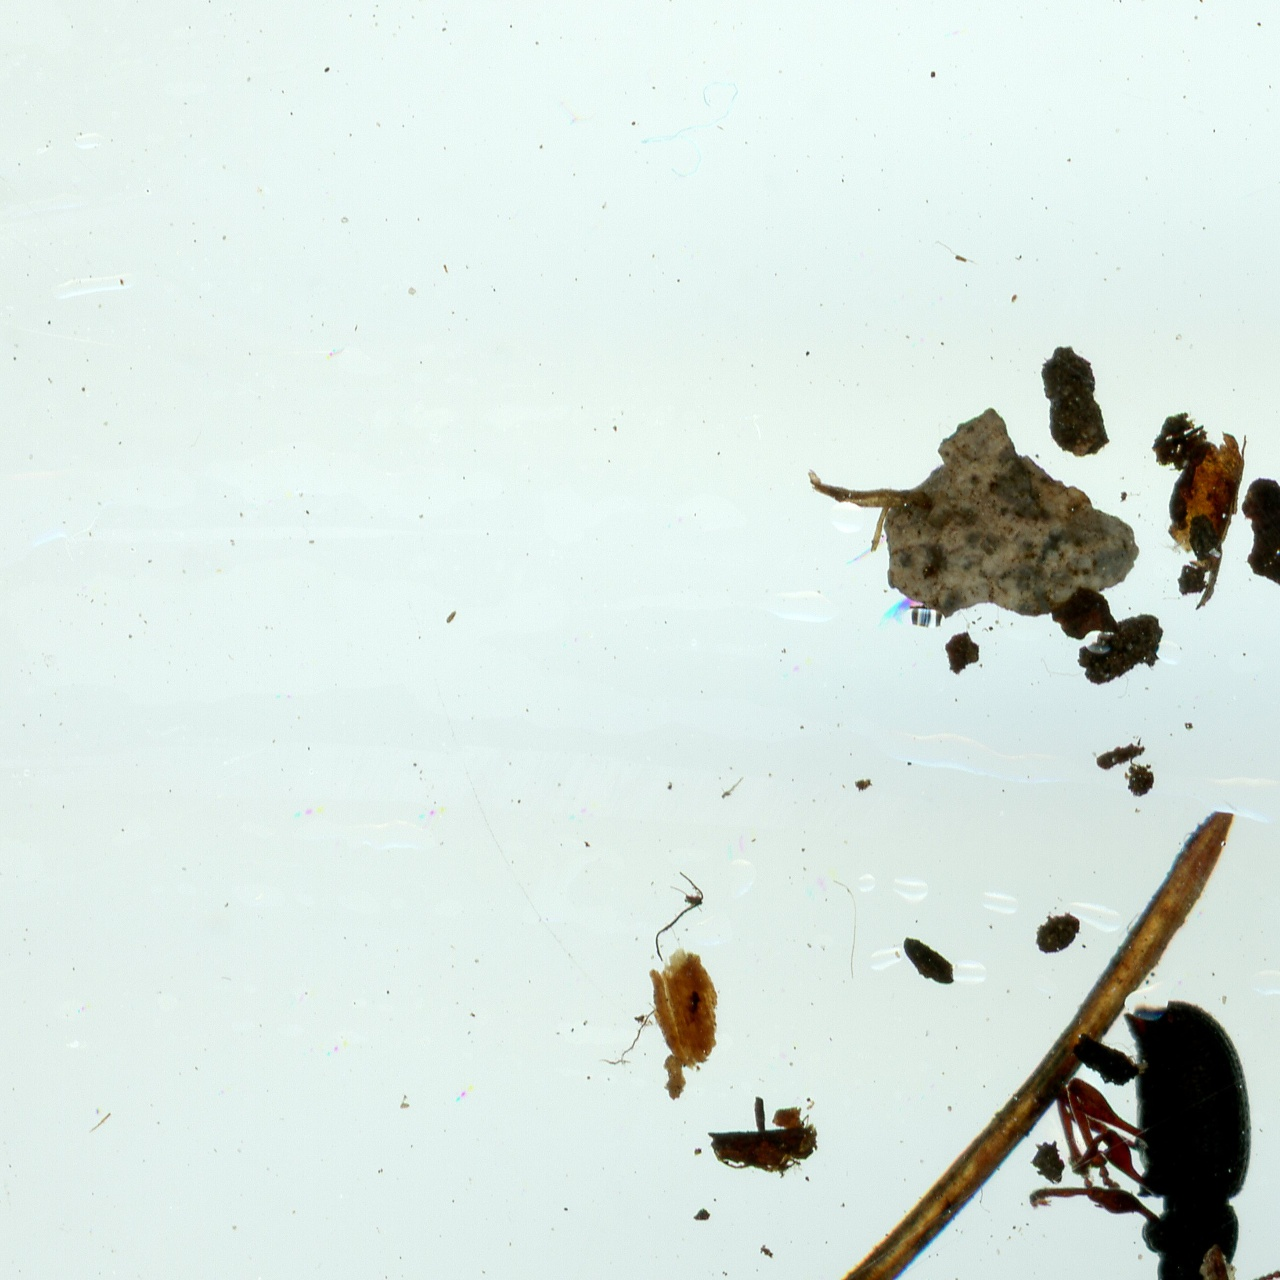arthropod: (979, 967, 1280, 1280)
